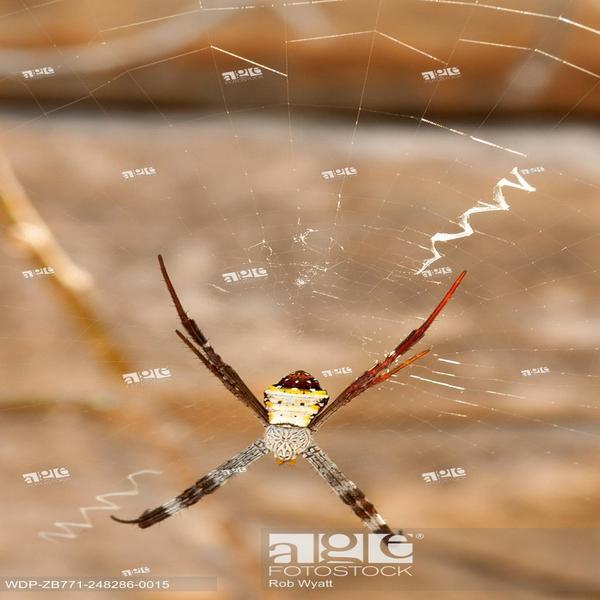St Andrew's Cross Spider: (120, 254, 468, 543)
